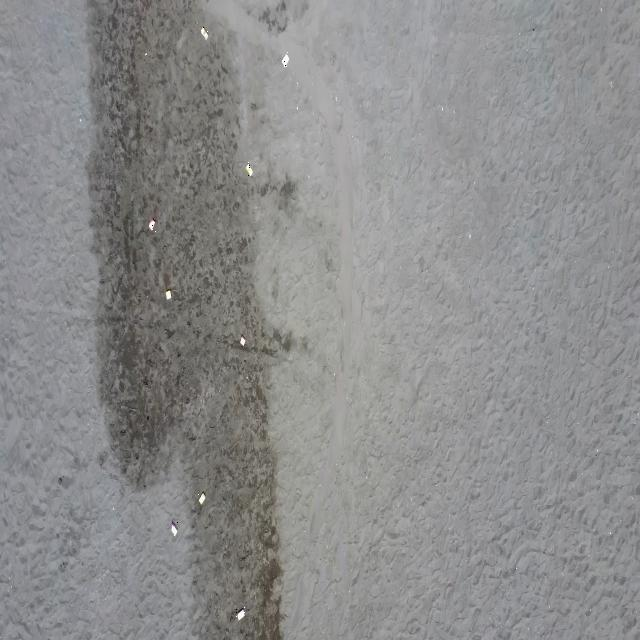Garbage: (244, 163, 252, 176), (236, 607, 244, 620), (281, 51, 287, 67), (200, 26, 207, 39), (148, 219, 155, 231), (164, 288, 171, 299), (171, 520, 176, 535), (198, 492, 204, 504), (241, 335, 244, 346), (143, 51, 147, 55)
